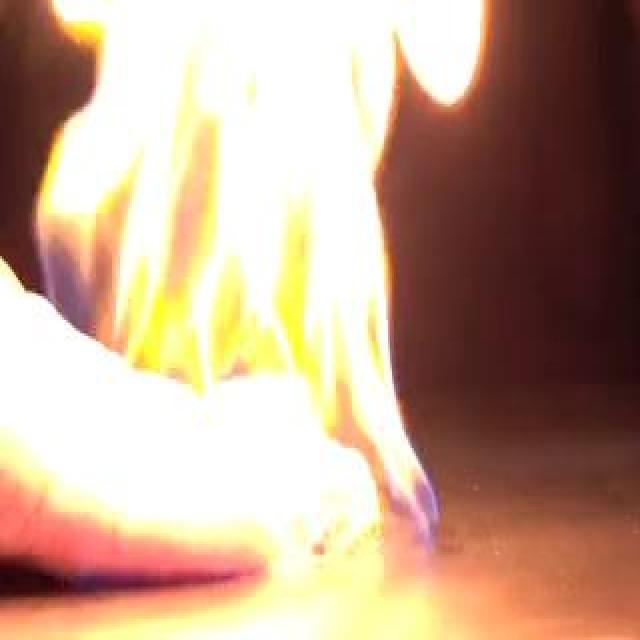Fire: (31, 3, 453, 565)
